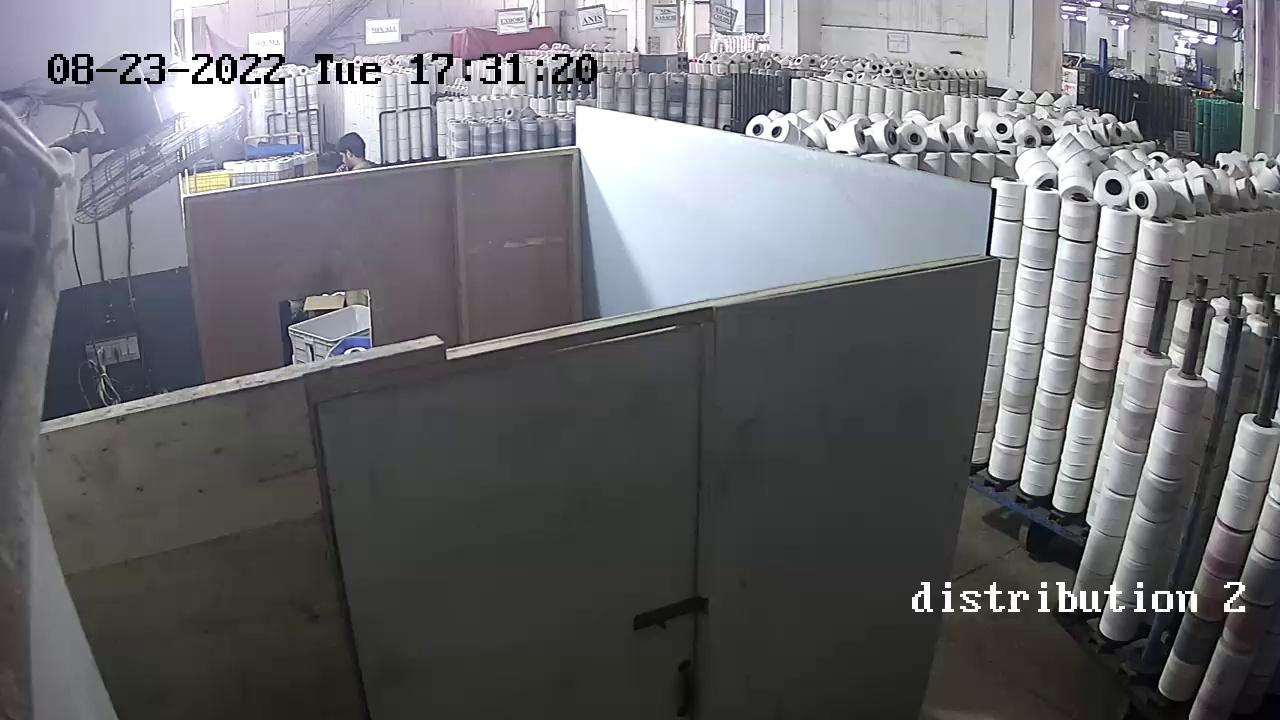person: (330, 136, 373, 174)
